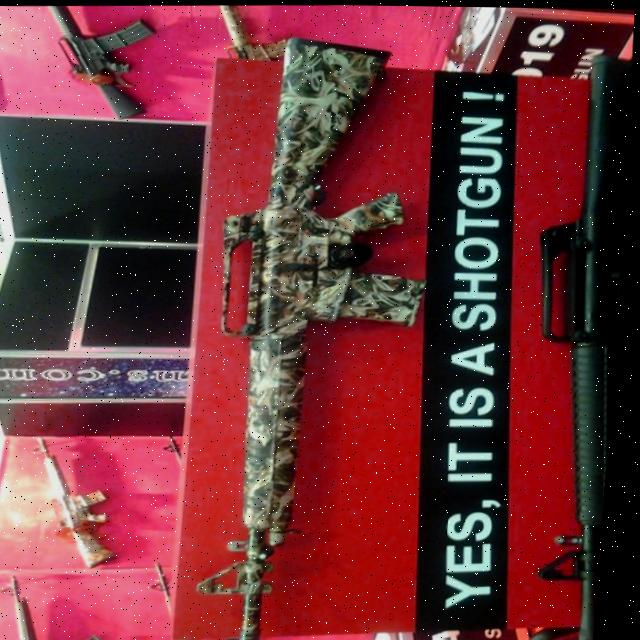firearm: (198, 34, 444, 640), (512, 50, 637, 640), (39, 4, 157, 119), (30, 435, 132, 566), (152, 559, 254, 640), (6, 574, 119, 640)
